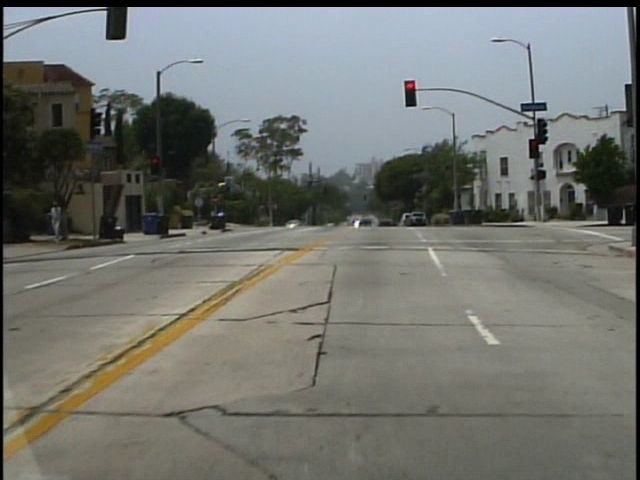person: (53, 200, 67, 242)
